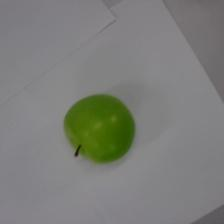green: (63, 92, 136, 164)
